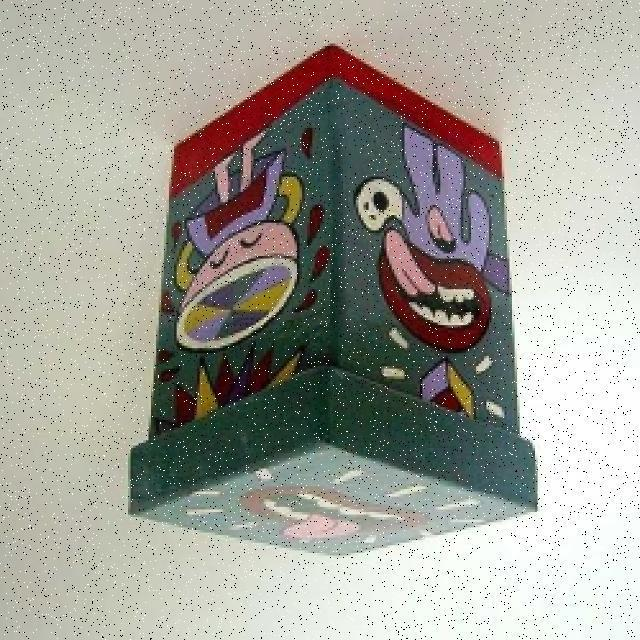box: (123, 39, 544, 566)
